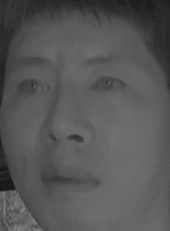eye: (87, 71, 129, 99), (14, 76, 55, 100)
mouth: (41, 158, 102, 200)
